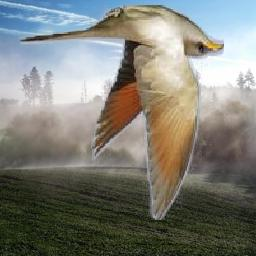Cuckoo: (18, 6, 224, 221)
